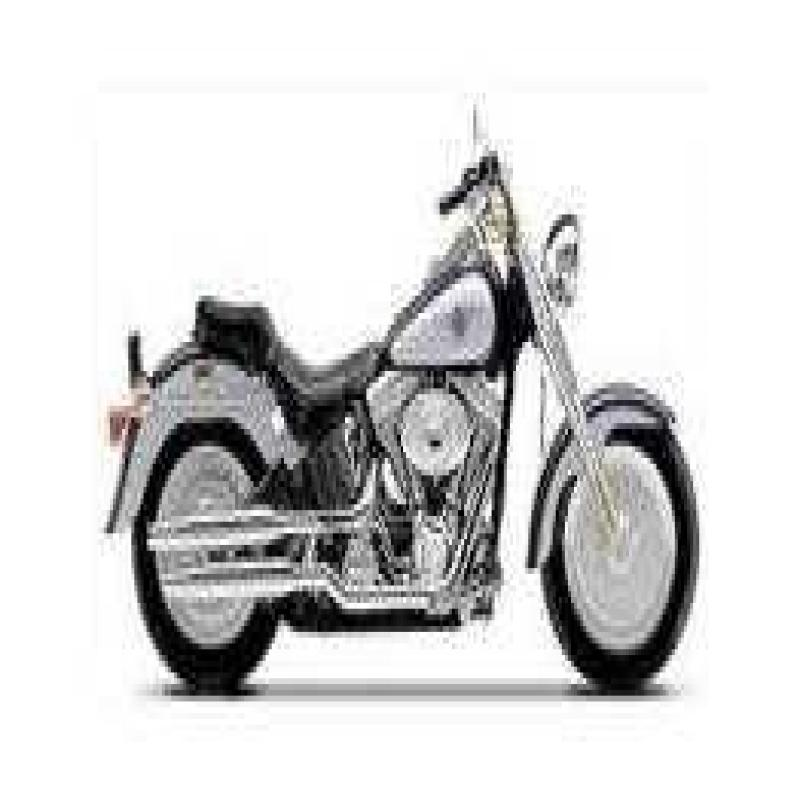bike: (104, 88, 694, 704)
